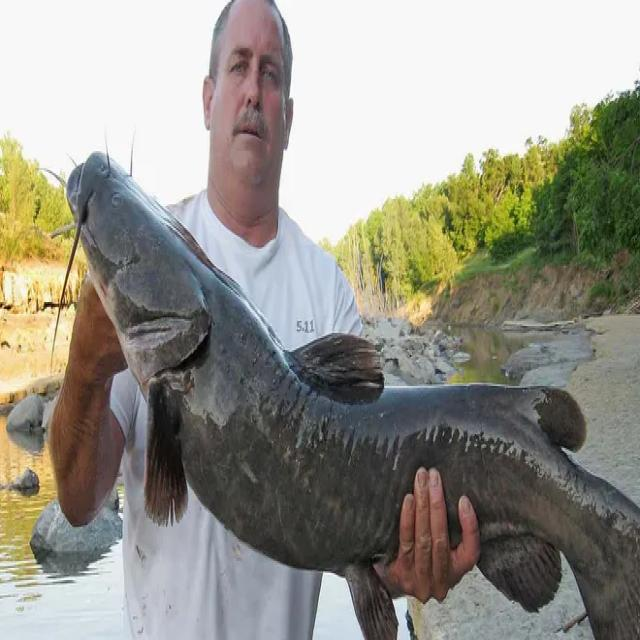Catfish - Blue: (68, 153, 640, 639)
